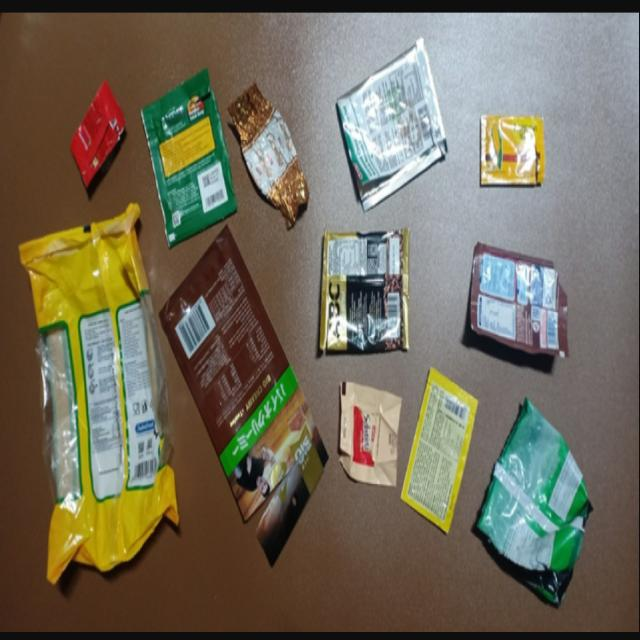KemasanPlastik: (17, 202, 182, 587), (157, 223, 330, 566), (474, 385, 593, 610), (337, 35, 448, 219), (143, 66, 239, 240), (469, 241, 572, 360), (228, 80, 310, 228), (321, 228, 412, 352), (404, 369, 472, 531), (70, 66, 127, 187), (338, 374, 399, 484), (480, 107, 548, 191)
